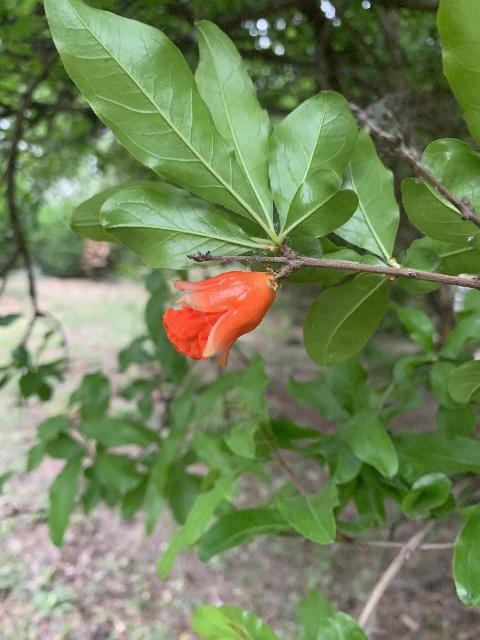flower: (162, 271, 276, 366)
